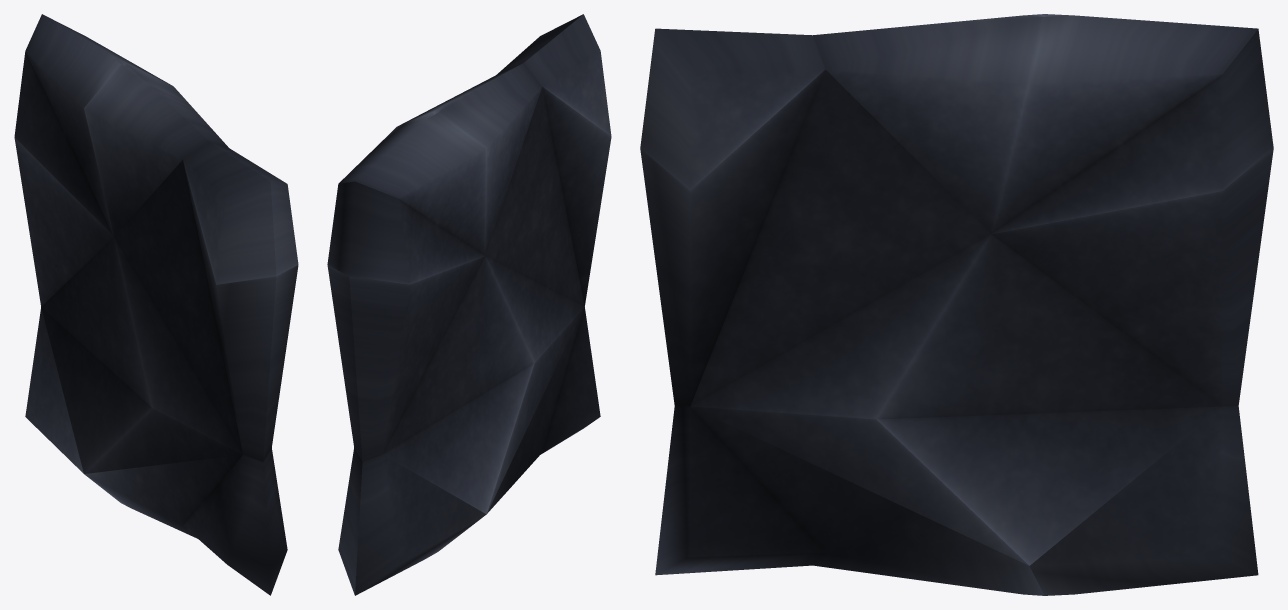
File: FrontBackWalls.fbx
The picture shows the model from 3 angles, left to right: view 1: azimuth 30°, elevation 25°; view 2: azimuth 150°, elevation 25°; view 3: azimuth 270°, elevation 25°; orthographic projection. The views are drawn at different scales.
Parts seen in each view (by area): view 1: pCube270; view 2: pCube270; view 3: pCube270.
Boxes of the visible parts, box(x1,y1,x2,y2) form: pCube270: box(14, 14, 298, 595); pCube270: box(327, 14, 611, 595); pCube270: box(640, 14, 1273, 595).
Size of the model in its own units: 25.63 by 120 by 119.
